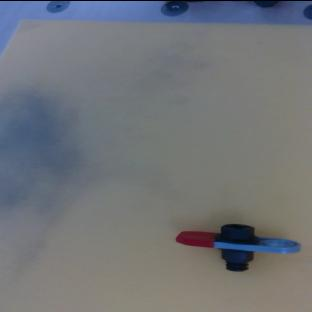part_1_good: (175, 223, 302, 272)
